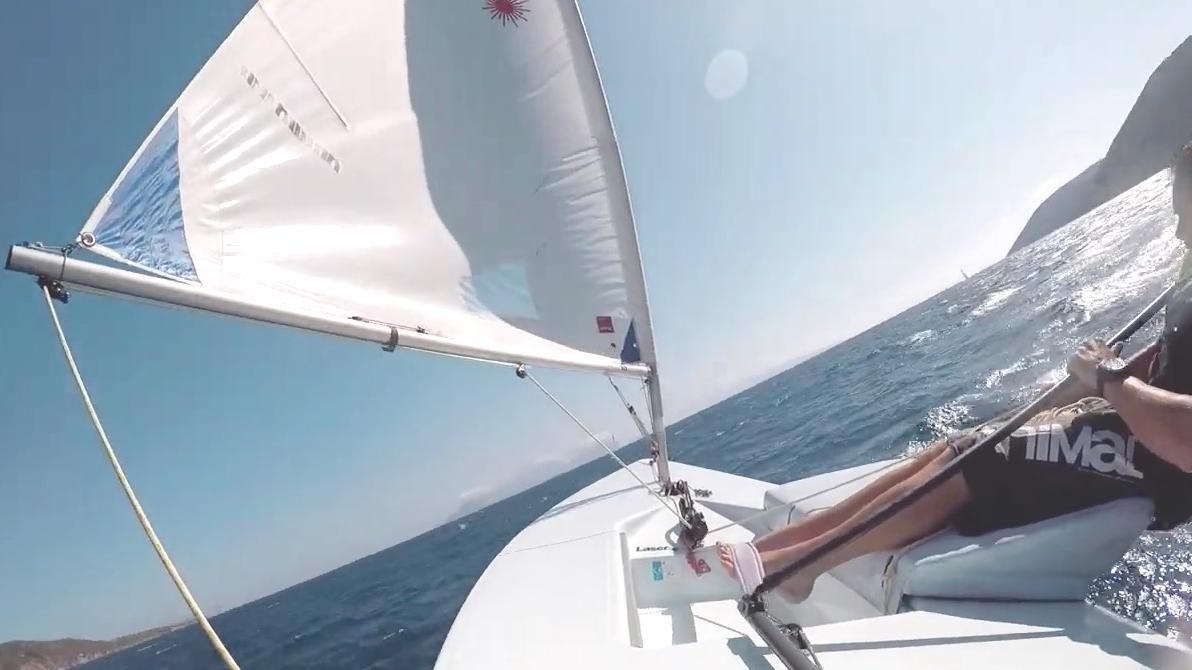boat: (4, 0, 1157, 670)
land: (1017, 36, 1192, 250), (0, 628, 181, 670)
person: (715, 273, 1192, 607)
sea: (208, 171, 1189, 670), (1089, 521, 1192, 633)
sky: (0, 0, 644, 646), (576, 0, 1192, 426)
